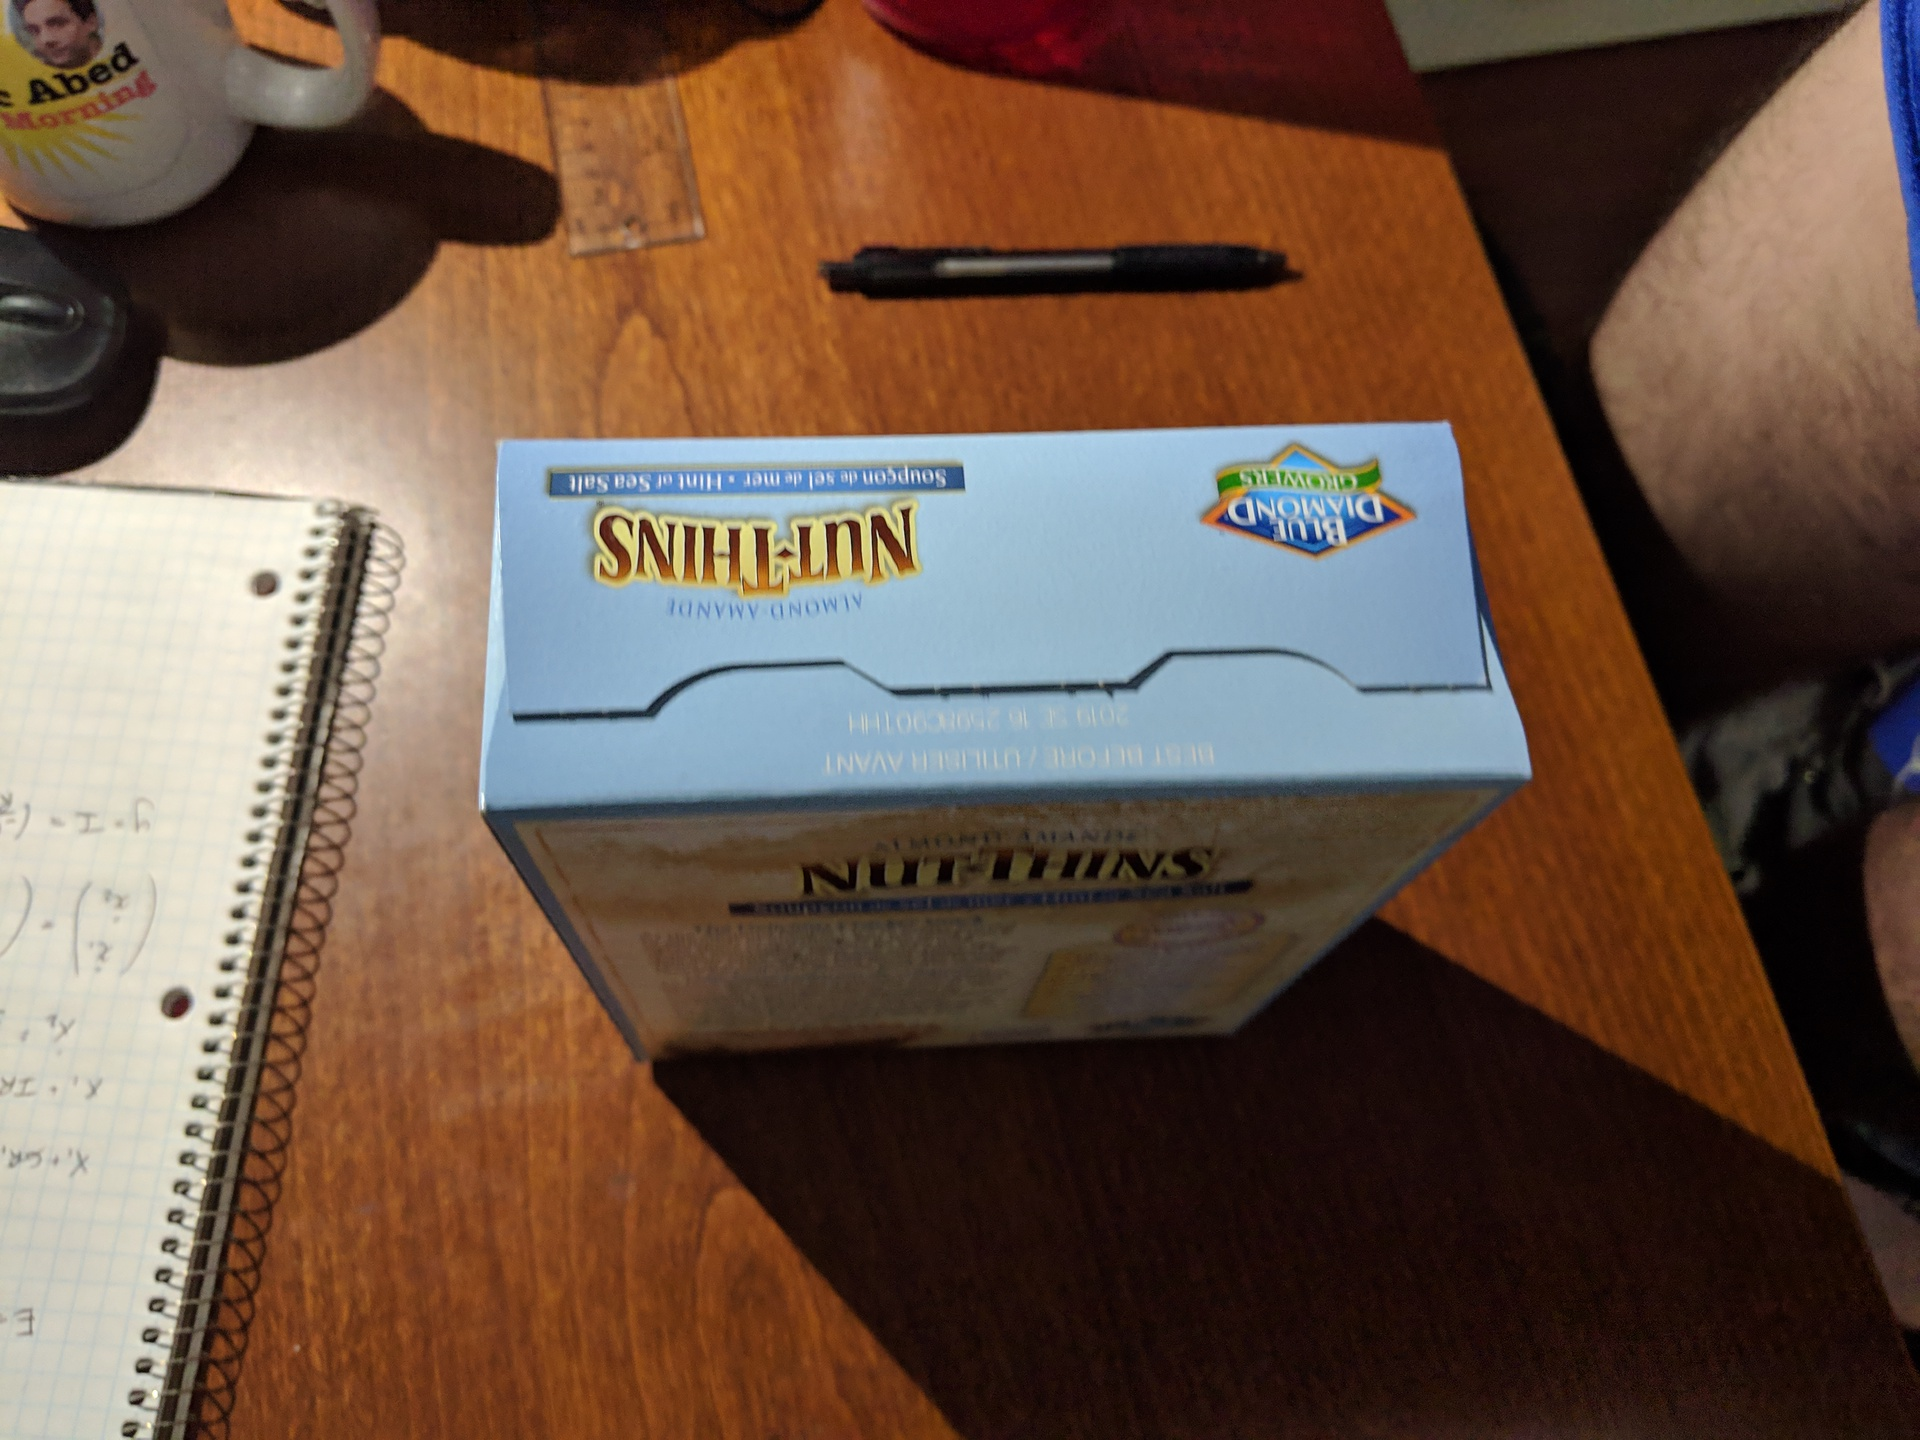blue_diamond_nut_thins_almond_seasalt: (484, 437, 1466, 1038)
